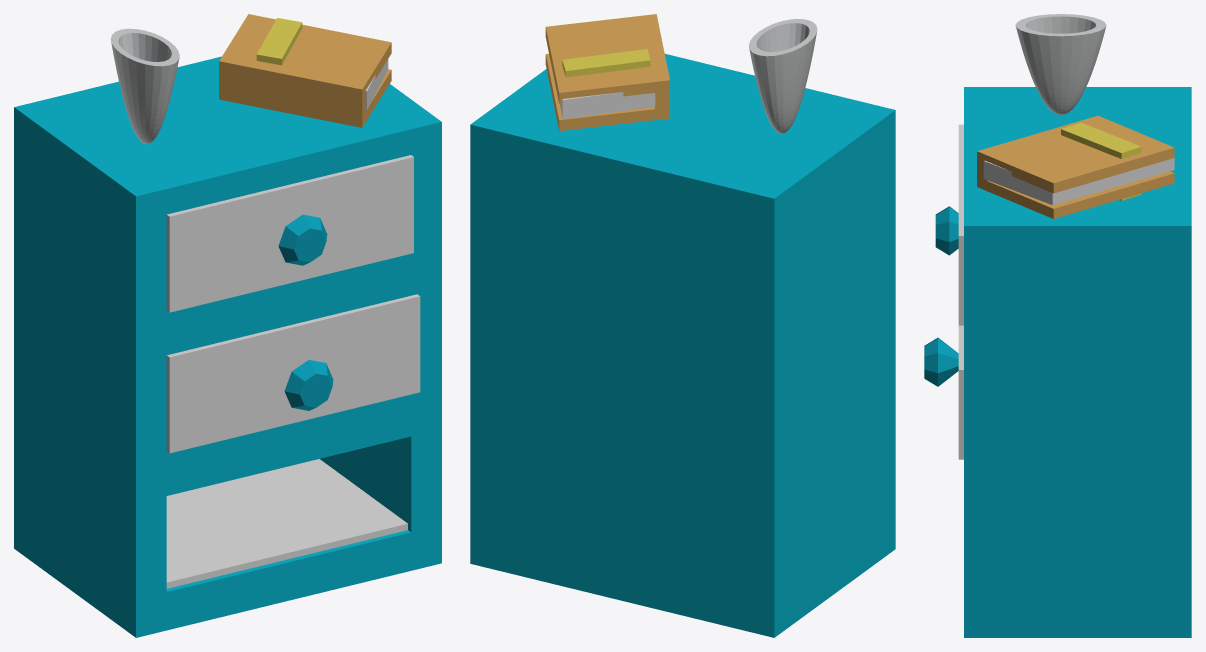
The model's file is Side Table.glb.
3 views of the same model, side by side, from view 1: azimuth 30°, elevation 25°; view 2: azimuth 150°, elevation 25°; view 3: azimuth 270°, elevation 25° (orthographic). The views are drawn at different scales.
Visible parts, largest first — view 1: Mesh_Mesh_head_geo.001_lambert2SG.001; view 2: Mesh_Mesh_head_geo.001_lambert2SG.001; view 3: Mesh_Mesh_head_geo.001_lambert2SG.001.
Boxes of the visible parts, bbox=[...] form: Mesh_Mesh_head_geo.001_lambert2SG.001: bbox=[14, 14, 441, 637]; Mesh_Mesh_head_geo.001_lambert2SG.001: bbox=[470, 14, 895, 637]; Mesh_Mesh_head_geo.001_lambert2SG.001: bbox=[924, 14, 1191, 637].
Bounding box in the file's own units: 50 × 84 × 40.55.
